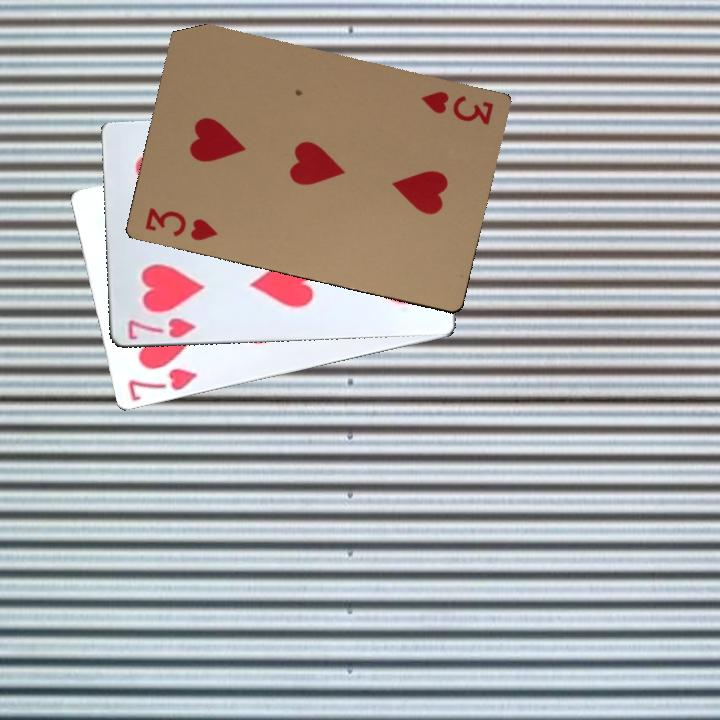3h: (141, 203, 220, 244), (417, 86, 496, 127)
7h: (124, 364, 200, 404), (124, 313, 198, 342)
